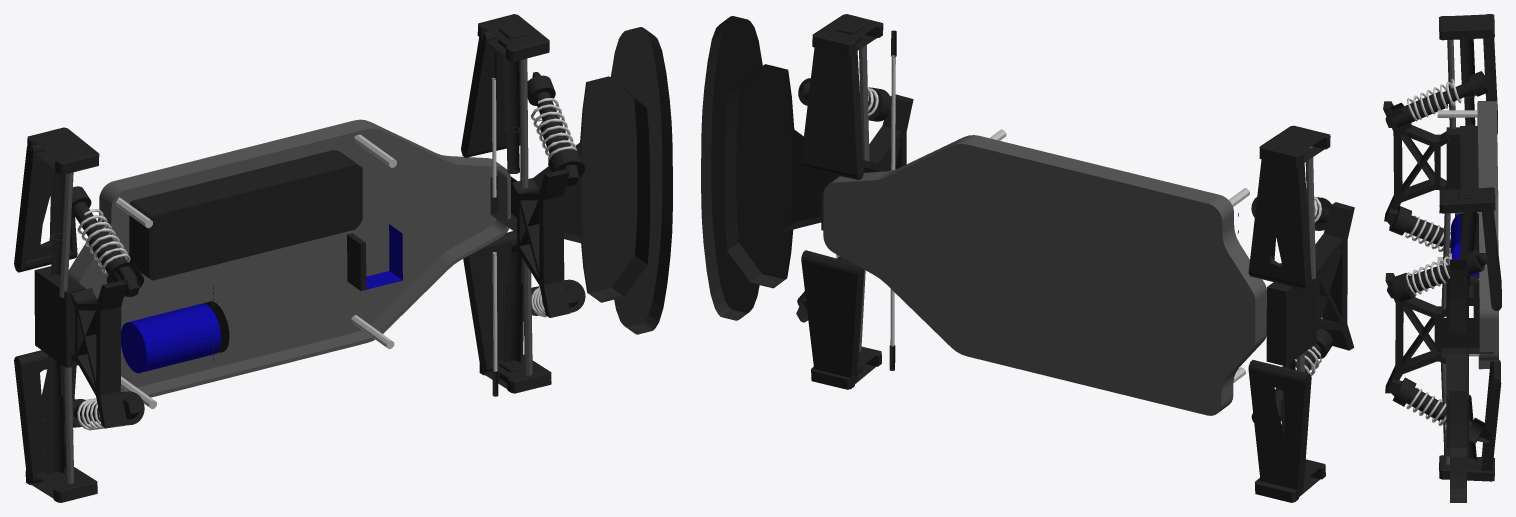
The model's file is roboracer_chassis.glb.
3 views of the same model, side by side, from view 1: azimuth 30°, elevation 25°; view 2: azimuth 150°, elevation 25°; view 3: azimuth 270°, elevation 25° (orthographic). The views are drawn at different scales.
Parts seen in each view (by area): view 1: roboracer_chassis; view 2: roboracer_chassis; view 3: roboracer_chassis.
Boxes of the visible parts, box(x1,y1,x2,y2) form: roboracer_chassis: box(14, 14, 672, 502); roboracer_chassis: box(701, 14, 1354, 502); roboracer_chassis: box(1383, 14, 1501, 502).
Size of the model in its own units: 0.4494 by 0.2408 by 0.0922.
